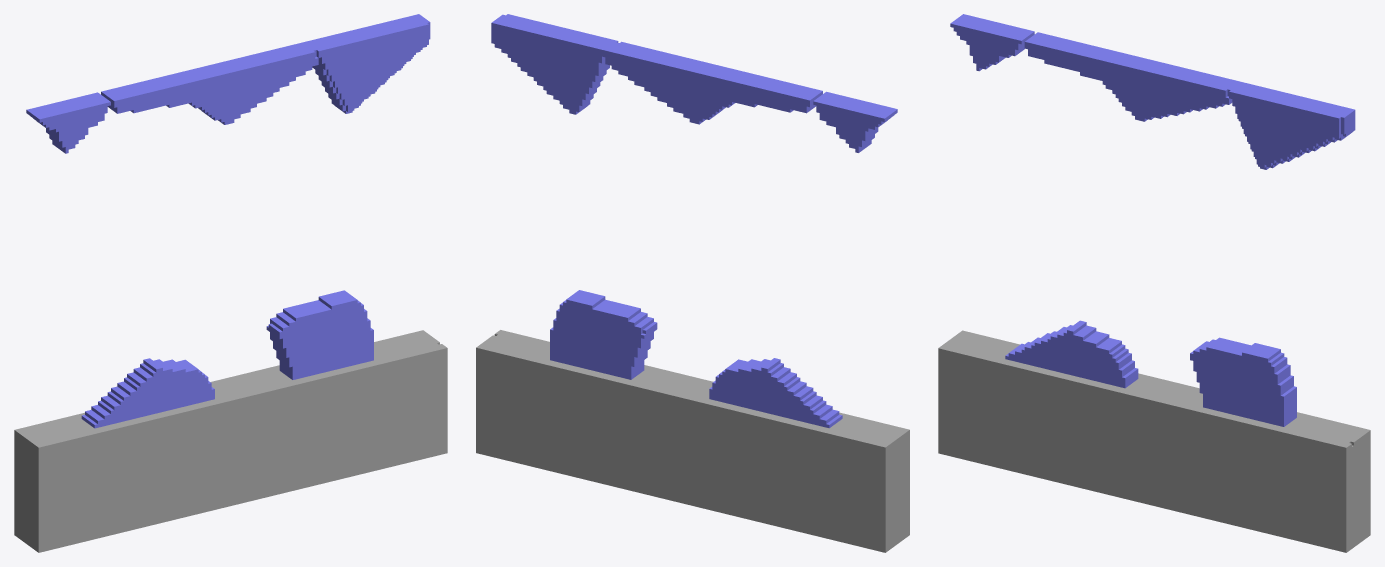
The model's file is Operating_room_Window2-4-1.fbx.
The picture shows the model from 3 angles, left to right: view 1: azimuth 30°, elevation 25°; view 2: azimuth 150°, elevation 25°; view 3: azimuth 330°, elevation 25°; orthographic projection.
Visible parts, largest first — view 1: Operating room Window2-4-1.001, Operating room Window2-4-1.004, Operating room Window2-4-1, Operating room Window2-4-1.003, Operating room Window2-4-1.002; view 2: Operating room Window2-4-1.001, Operating room Window2-4-1.004, Operating room Window2-4-1, Operating room Window2-4-1.003, Operating room Window2-4-1.002; view 3: Operating room Window2-4-1.001, Operating room Window2-4-1.004, Operating room Window2-4-1, Operating room Window2-4-1.003, Operating room Window2-4-1.002.
Part boxes in pixels (box(x1,y1,x2,y2)): Operating room Window2-4-1.001: box(14, 330, 447, 552); Operating room Window2-4-1.004: box(101, 14, 430, 124); Operating room Window2-4-1: box(266, 290, 373, 379); Operating room Window2-4-1.003: box(81, 358, 214, 428); Operating room Window2-4-1.002: box(26, 92, 110, 153); Operating room Window2-4-1.001: box(476, 330, 909, 552); Operating room Window2-4-1.004: box(491, 14, 822, 124); Operating room Window2-4-1: box(550, 290, 657, 379); Operating room Window2-4-1.003: box(709, 358, 842, 428); Operating room Window2-4-1.002: box(813, 91, 897, 152); Operating room Window2-4-1.001: box(938, 330, 1370, 552); Operating room Window2-4-1.004: box(1024, 32, 1355, 169); Operating room Window2-4-1: box(1190, 337, 1296, 426); Operating room Window2-4-1.003: box(1005, 320, 1138, 388); Operating room Window2-4-1.002: box(950, 14, 1034, 71).
Bounding box in the file's own units: 12.6 × 12.6 × 1.3.
